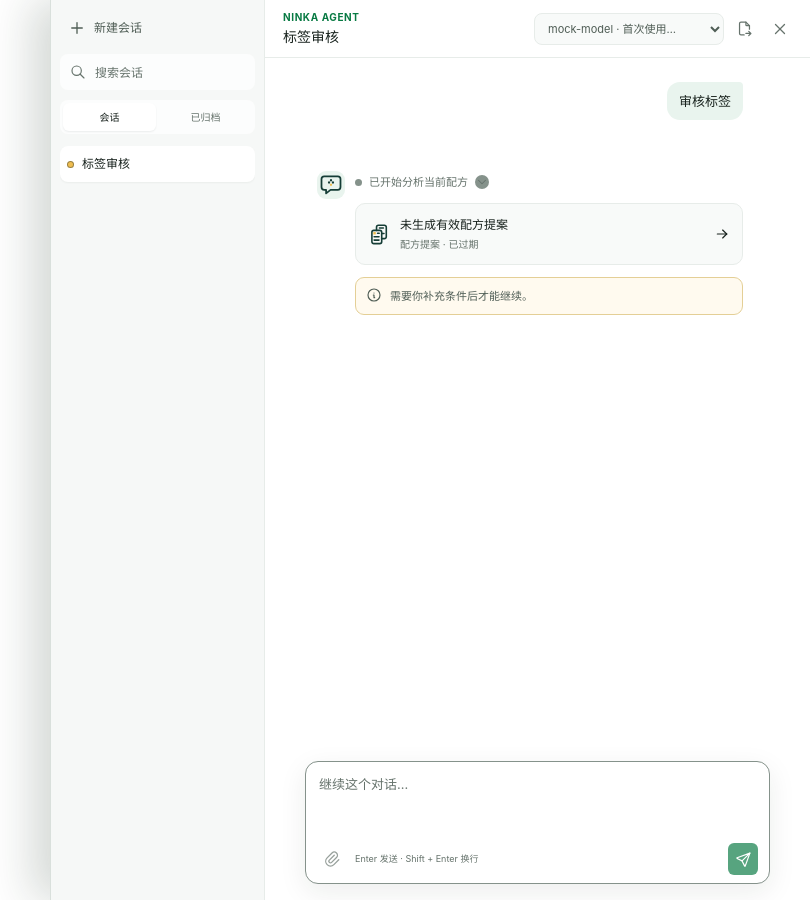
Test: HarnessAgentPanel › explains that a historical ghost recipe artifact is stale
Click the button with aria-label "打开未生成有效配方提案" at (454, 225), box [355,203,743,265]
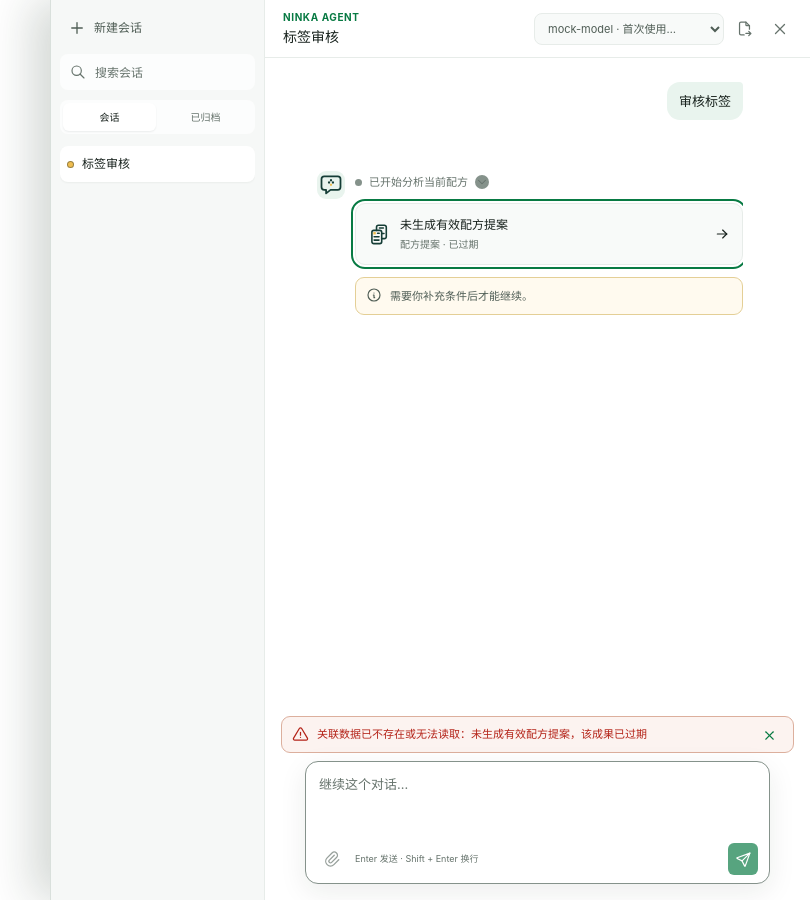
Expected: the text "关联数据已不存在或无法读取：未生成有效配方提案，该成果已过期" is shown, [317,727,647,741]
